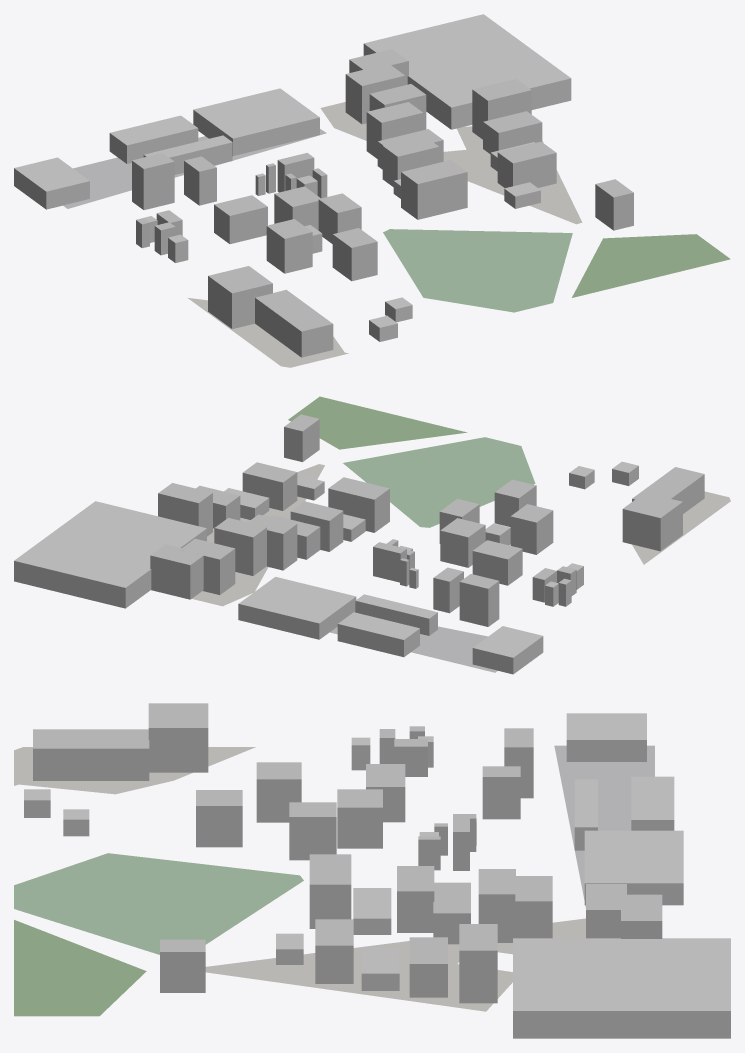
Rendered from 132_99_mid.glb.
3 renders of one model, top to bottom at view 1: azimuth 30°, elevation 25°; view 2: azimuth 150°, elevation 25°; view 3: azimuth 270°, elevation 25°, orthographic. The views are drawn at different scales.
Bounding box in the file's own units: 564 × 47.28 × 559.
